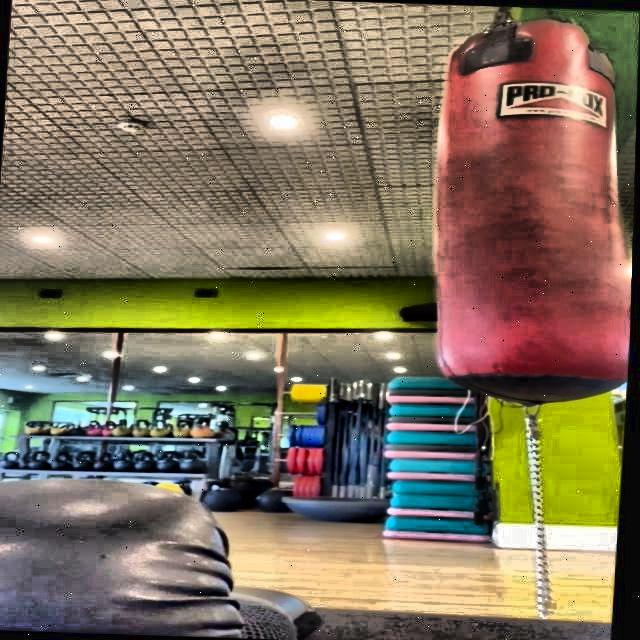boxing-bag: (426, 4, 640, 401)
